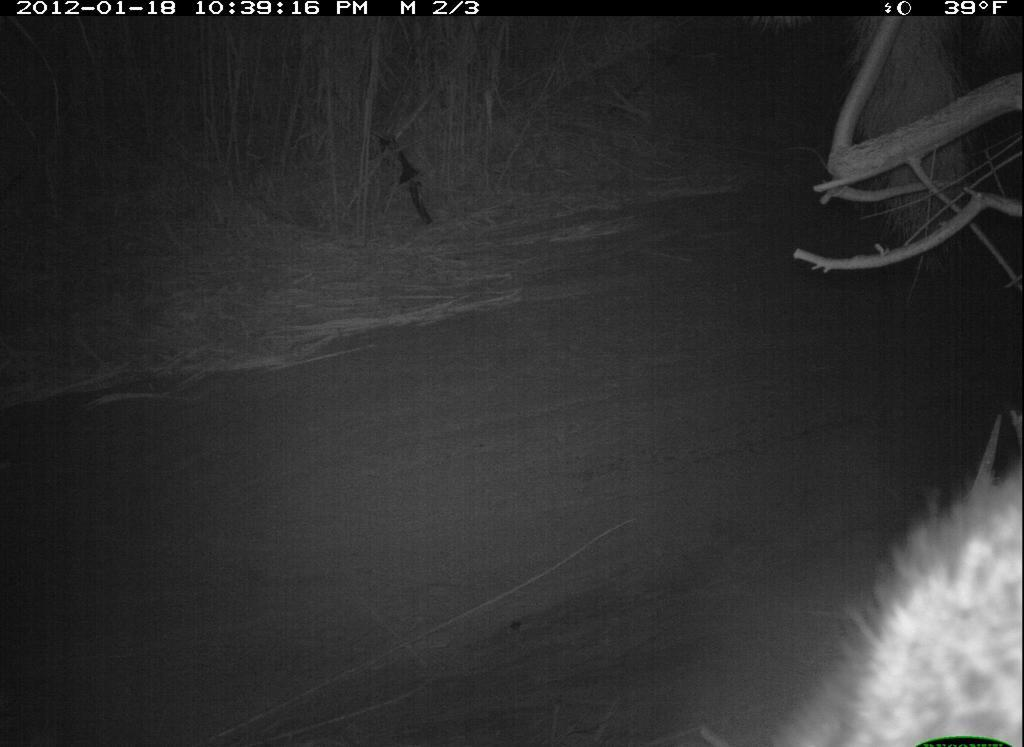raccoon: (734, 395, 1023, 747)
